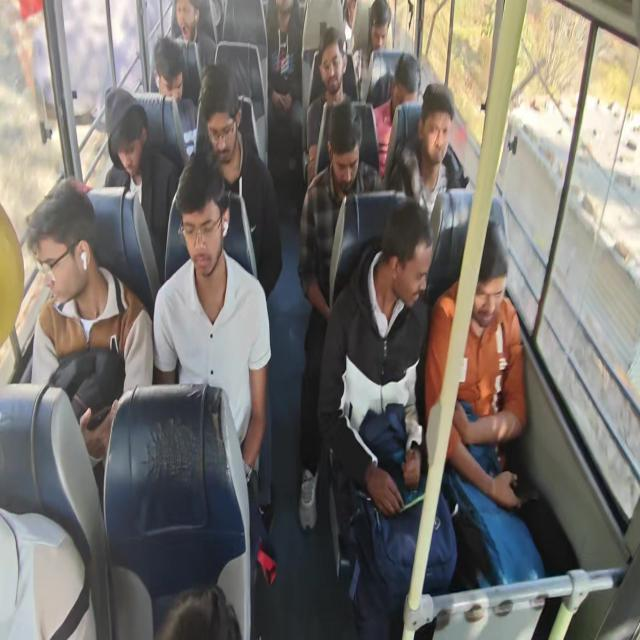person: (31, 192, 98, 304), (106, 96, 162, 208), (170, 180, 228, 278), (382, 208, 430, 312), (468, 226, 512, 318), (327, 101, 362, 196), (154, 46, 192, 122), (209, 91, 242, 177), (420, 88, 454, 168), (390, 55, 426, 122), (316, 40, 348, 95), (172, 0, 202, 51), (340, 0, 371, 40), (371, 4, 390, 46), (268, 0, 290, 12)
